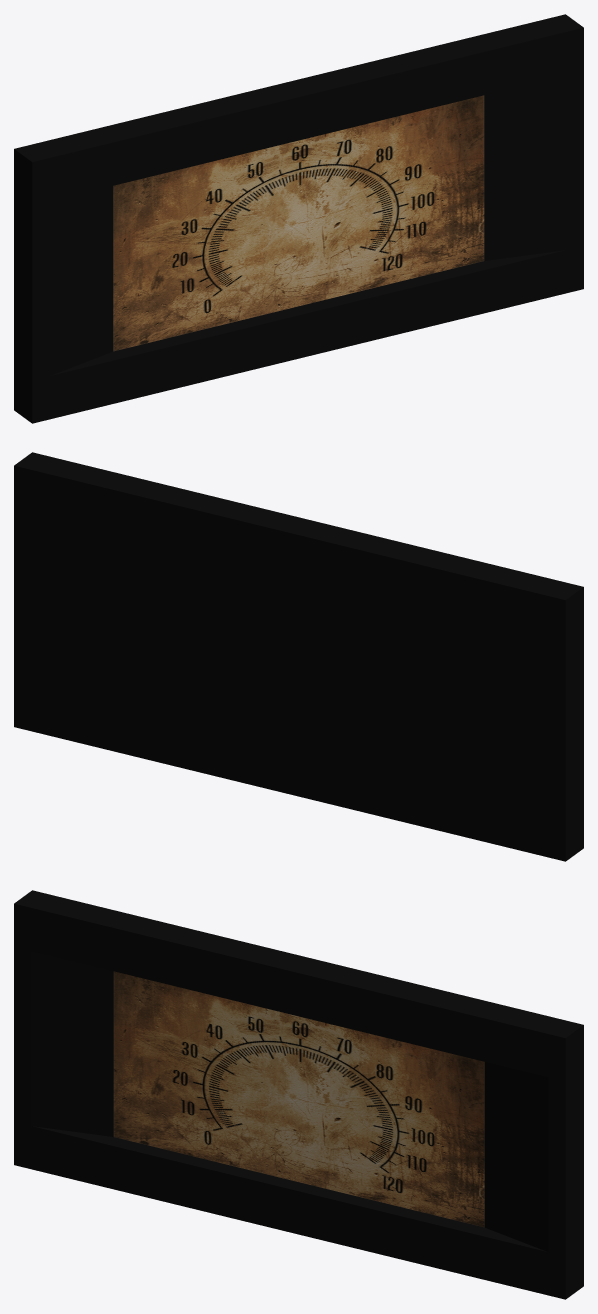
File: visor.FBX
3 renders of one model, top to bottom at view 1: azimuth 30°, elevation 25°; view 2: azimuth 150°, elevation 25°; view 3: azimuth 330°, elevation 25°, orthographic.
Parts seen in each view (by area): view 1: visor; view 2: visor; view 3: visor.
Part boxes in pixels (x1,y1,x2,y2): visor: (14,14,583,423); visor: (14,452,583,861); visor: (14,890,583,1299).
Bounding box in the file's own units: 26.95 × 12.2 × 1.55.
